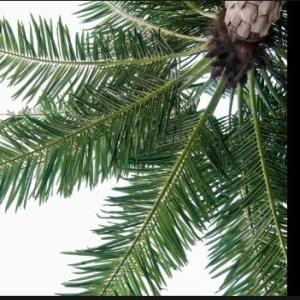palm tree: (0, 0, 287, 296)
